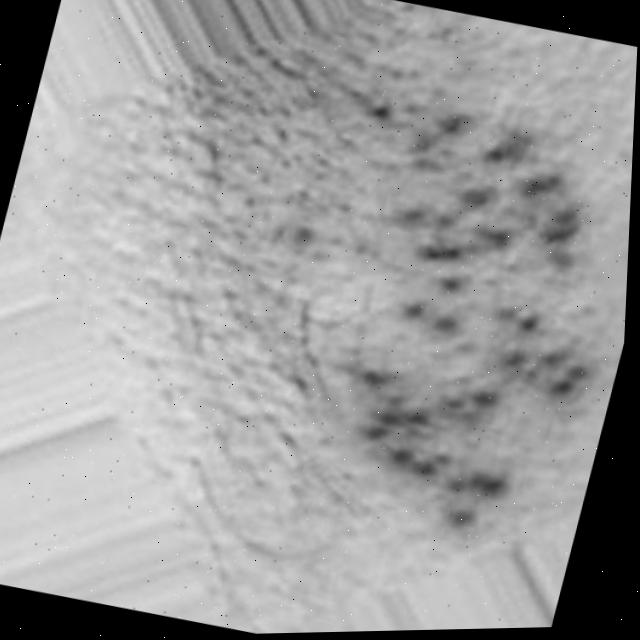Shingles: (288, 88, 635, 526)
